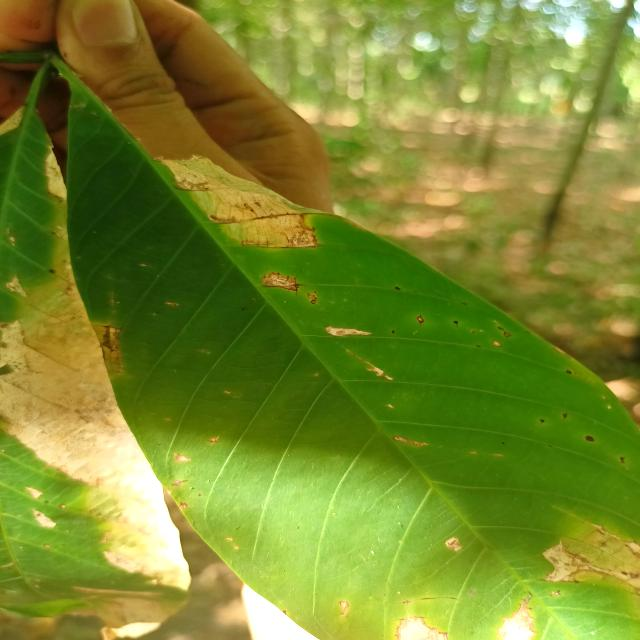Leaf-Blight: (160, 153, 317, 249), (542, 540, 592, 583), (497, 600, 538, 640), (398, 616, 448, 640), (44, 150, 68, 199), (0, 106, 25, 136), (6, 276, 27, 298)
